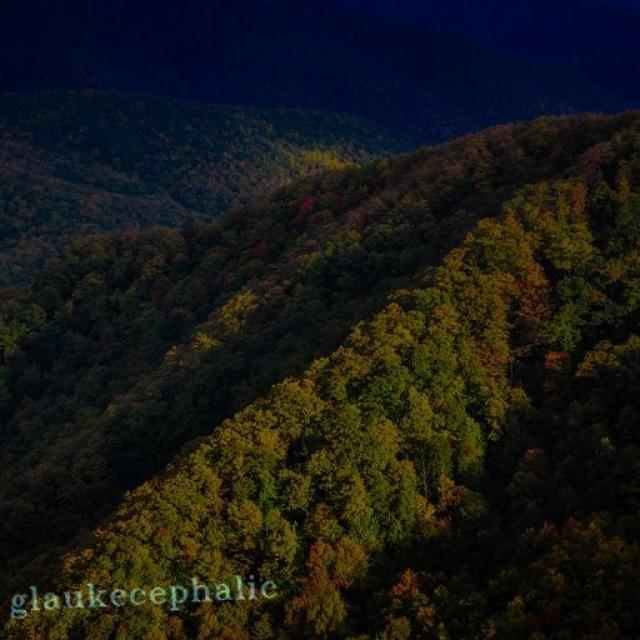watermark: (1, 572, 278, 616)
